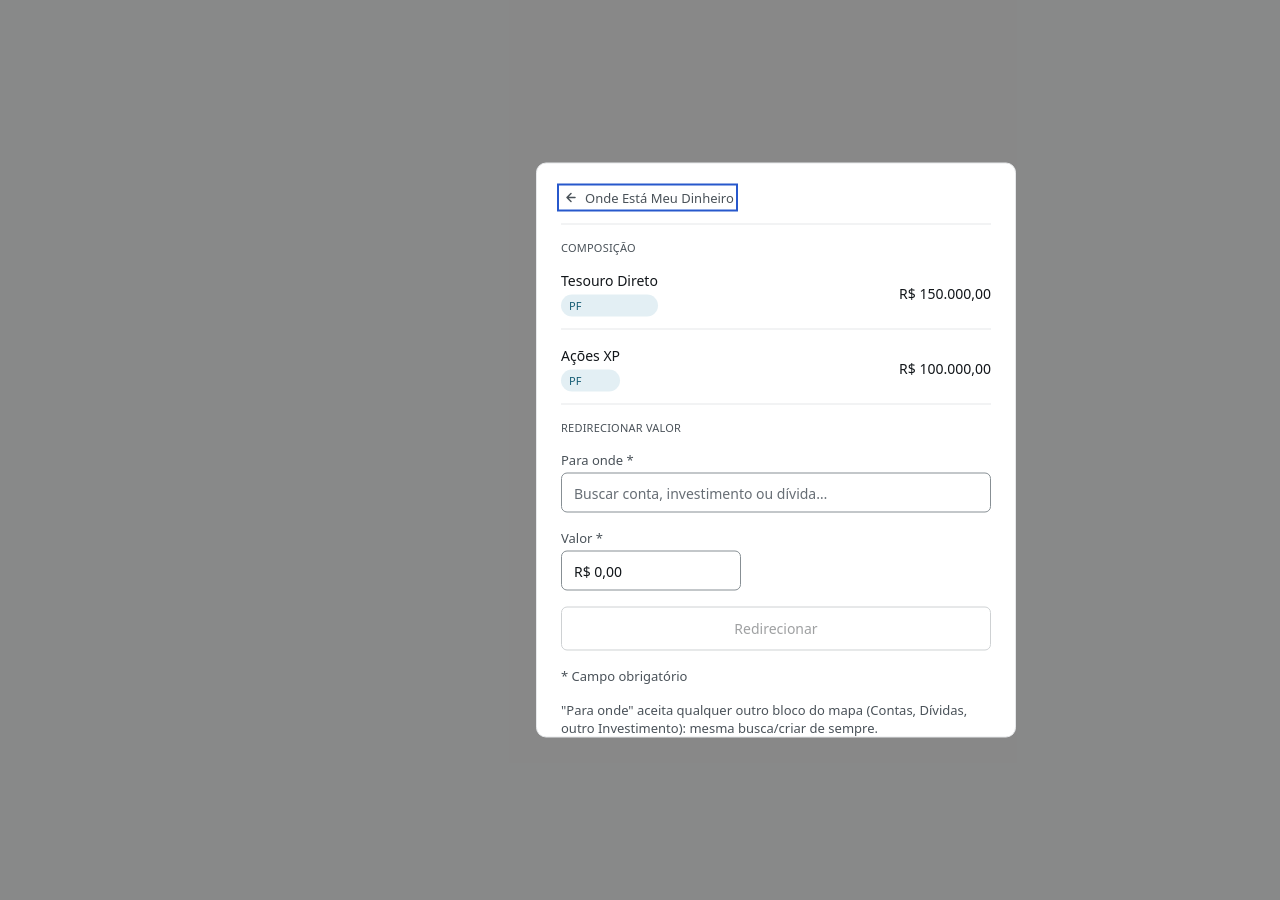
Test case: Detalhe do Bloco — "Para onde" (Figma 189:48/189:55, Mockup 1002:3146) › oferece a Dívida cadastrada na busca, como o placeholder 189:48 promete
Step 1. Focus the field labelled "Para onde *" → (776,492), box x1=561 y1=472 x2=991 y2=512
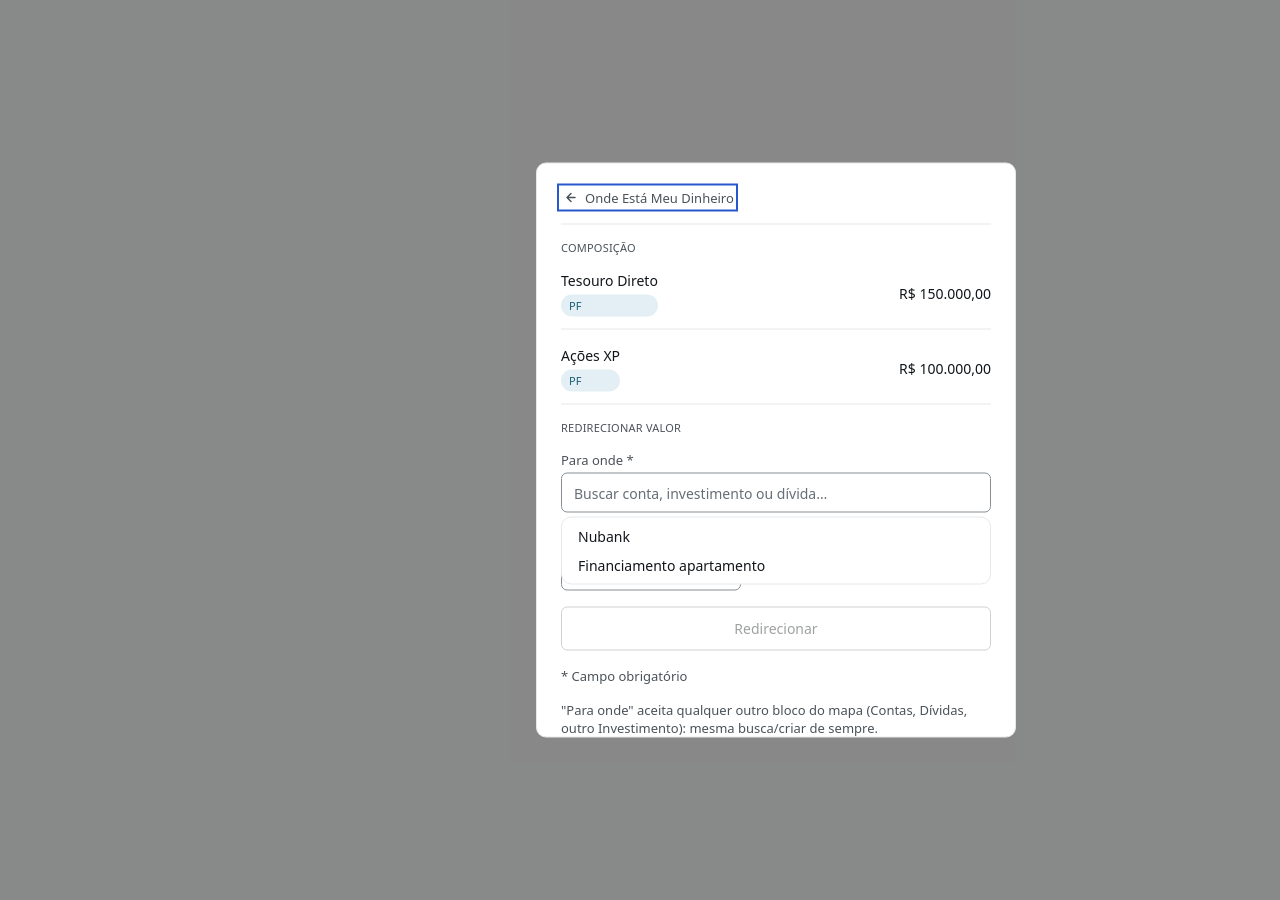
Check: the button "Financiamento apartamento" is shown, box x1=566 y1=550 x2=986 y2=580
Check: the button "Nubank" is shown, box x1=566 y1=522 x2=986 y2=550
